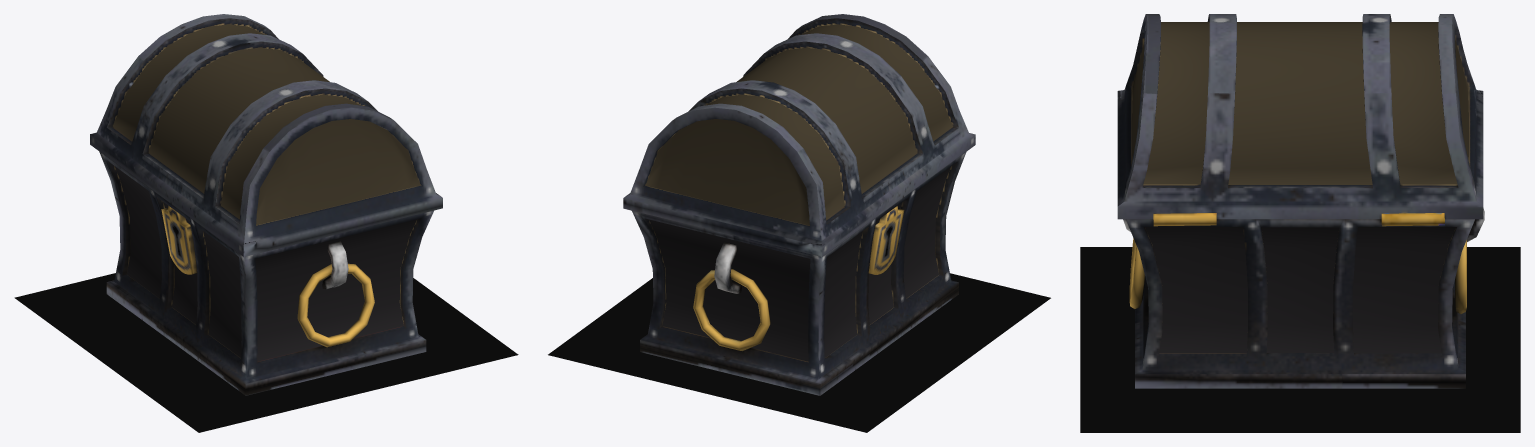
Rendered from Chest.fbx.
3 renders of one model, left to right at view 1: azimuth 30°, elevation 25°; view 2: azimuth 150°, elevation 25°; view 3: azimuth 270°, elevation 25°, orthographic. The views are drawn at different scales.
Visible parts, largest first — view 1: RR_ChestLid_002, RR_ChestBase_001, tileRef, Torus001, RR_Chest_Lock_001, Torus003; view 2: RR_ChestLid_002, RR_ChestBase_001, tileRef, Torus004, RR_Chest_Lock_001, Torus005; view 3: RR_ChestLid_002, RR_ChestBase_001, tileRef, Cylinder001, Cylinder002, Torus001, Torus004.
Boxes of the visible parts, x1=… form: RR_ChestLid_002: x1=90, y1=14, x2=442, y2=256; RR_ChestBase_001: x1=99, y1=151, x2=433, y2=395; tileRef: x1=14, y1=273, x2=518, y2=432; Torus001: x1=297, y1=263, x2=374, y2=347; RR_Chest_Lock_001: x1=161, y1=205, x2=197, y2=274; Torus003: x1=322, y1=241, x2=348, y2=289; RR_ChestLid_002: x1=623, y1=14, x2=975, y2=256; RR_ChestBase_001: x1=632, y1=152, x2=966, y2=395; tileRef: x1=548, y1=273, x2=1050, y2=432; Torus004: x1=693, y1=269, x2=770, y2=351; RR_Chest_Lock_001: x1=868, y1=206, x2=904, y2=274; Torus005: x1=714, y1=242, x2=741, y2=293; RR_ChestLid_002: x1=1117, y1=14, x2=1483, y2=219; RR_ChestBase_001: x1=1126, y1=219, x2=1474, y2=388; tileRef: x1=1080, y1=247, x2=1520, y2=432; Cylinder001: x1=1153, y1=213, x2=1216, y2=226; Cylinder002: x1=1381, y1=213, x2=1444, y2=226; Torus001: x1=1129, y1=238, x2=1145, y2=308; Torus004: x1=1455, y1=240, x2=1466, y2=313.
Bounding box in the file's own units: 78.74 × 61.94 × 78.74.
Materials: 6 (6 with a texture image).
